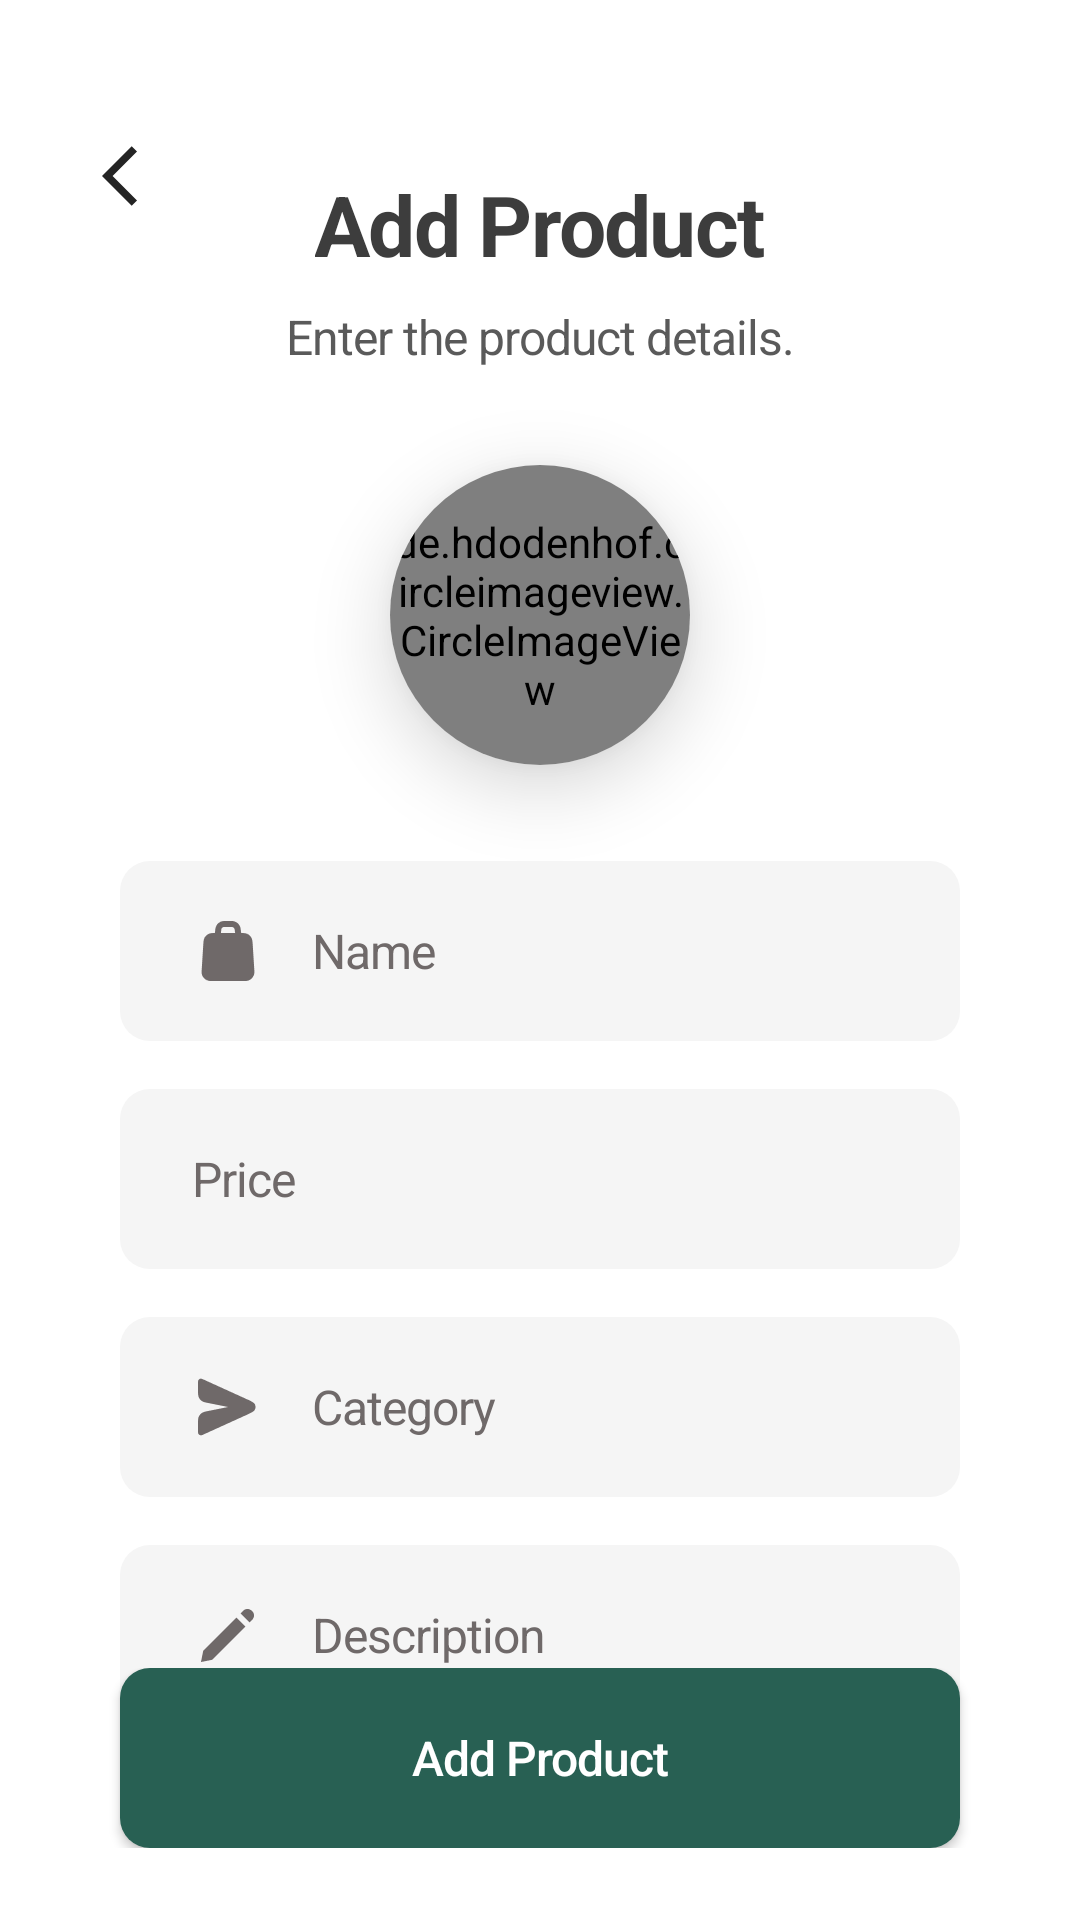

Screen size 1080×1920. Icon name, then its box in pixels as [x1=x1, y1=y1, x2=x2, y2=y2]:
back arrow: [x1=102, y1=146, x2=137, y2=206]
